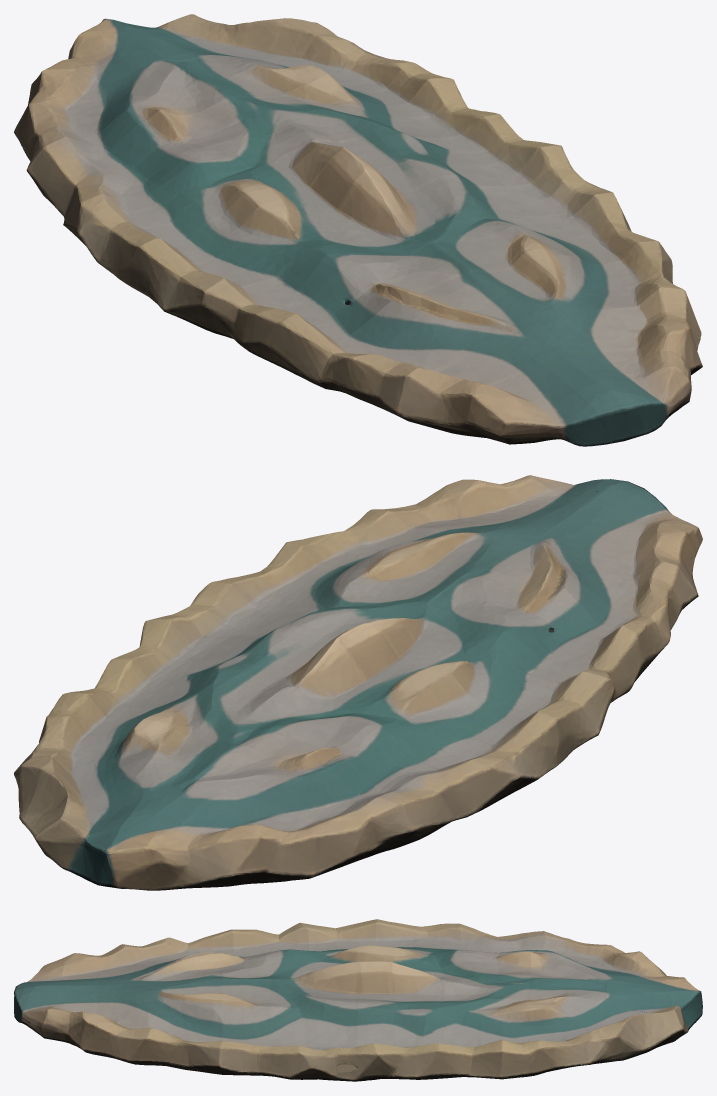
3 renders of one model, top to bottom at view 1: azimuth 30°, elevation 25°; view 2: azimuth 150°, elevation 25°; view 3: azimuth 270°, elevation 25°, orthographic. The views are drawn at different scales.
Visible parts, largest first — view 1: world; view 2: world; view 3: world.
Part boxes in pixels (box(x1,y1,x2,y2)): world: box(14, 14, 702, 446); world: box(14, 475, 702, 890); world: box(14, 919, 702, 1081).
Size of the model in its own units: 14.34 by 3.5 by 30.
Materials: 2 (2 with a texture image).
